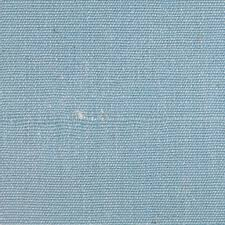Hole: (67, 91, 117, 138)
